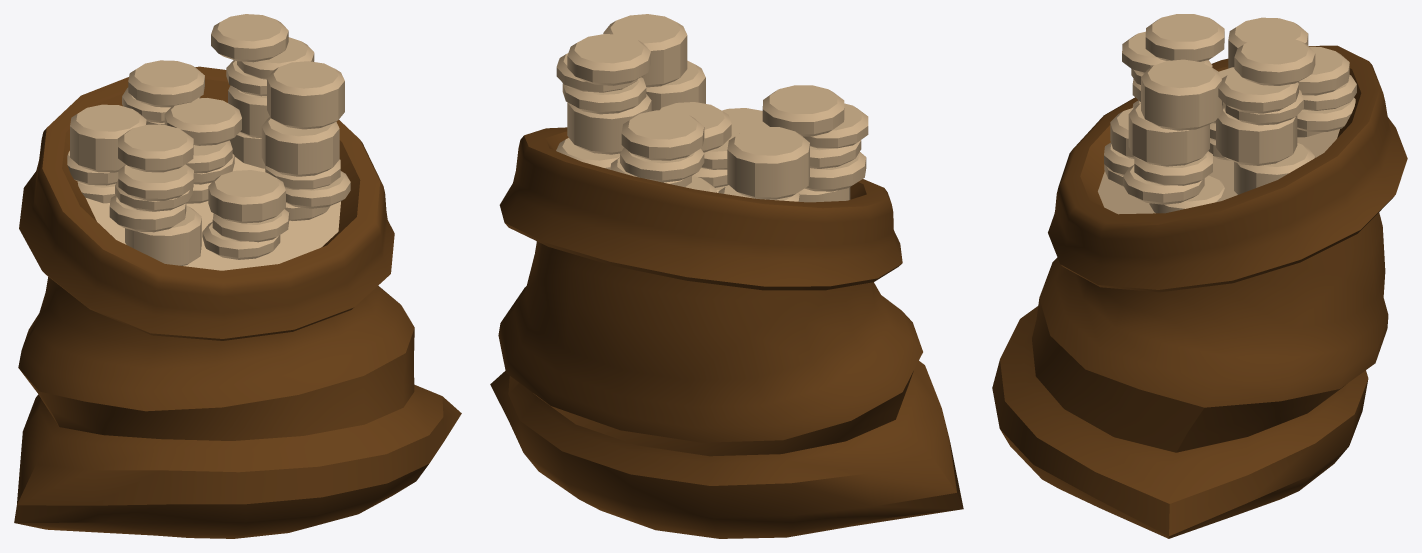
The model's file is prop-goldbag.glb.
3 views of the same model, side by side, from view 1: azimuth 30°, elevation 25°; view 2: azimuth 150°, elevation 25°; view 3: azimuth 270°, elevation 25° (orthographic). The views are drawn at different scales.
Visible parts, largest first — view 1: Prop_GoldBag; view 2: Prop_GoldBag; view 3: Prop_GoldBag.
Part boxes in pixels (left/top/right/bottom): Prop_GoldBag: left=14, top=14, right=461, bottom=538; Prop_GoldBag: left=490, top=14, right=963, bottom=538; Prop_GoldBag: left=992, top=14, right=1407, bottom=538.
Size of the model in its own units: 0.6661 by 0.6153 by 0.5187.
1 material, 1 textured.
